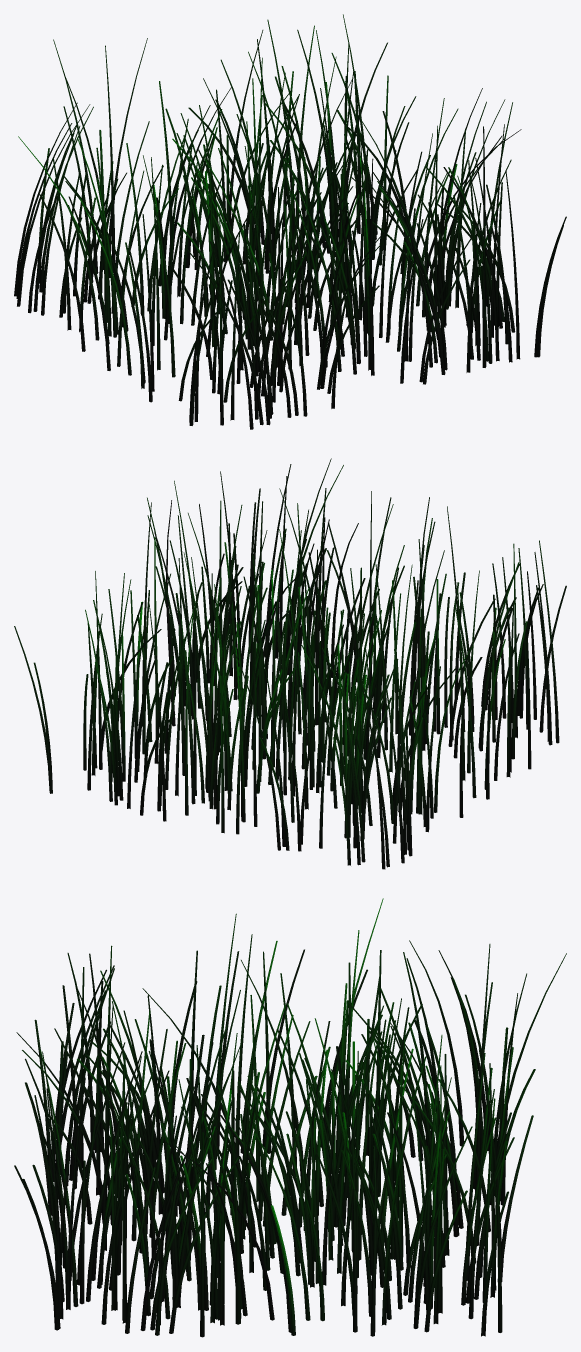
The model's file is GrassSimpleTextured.fbx.
The picture shows the model from 3 angles, top to bottom: view 1: azimuth 30°, elevation 25°; view 2: azimuth 150°, elevation 25°; view 3: azimuth 270°, elevation 25°; orthographic projection. The views are drawn at different scales.
Visible parts, largest first — view 1: Object001; view 2: Object001; view 3: Object001.
Boxes of the visible parts, bbox=[...] form: Object001: bbox=[14, 14, 566, 429]; Object001: bbox=[14, 458, 566, 869]; Object001: bbox=[14, 898, 566, 1337].
Size of the model in its own units: 109 by 54.35 by 111.
